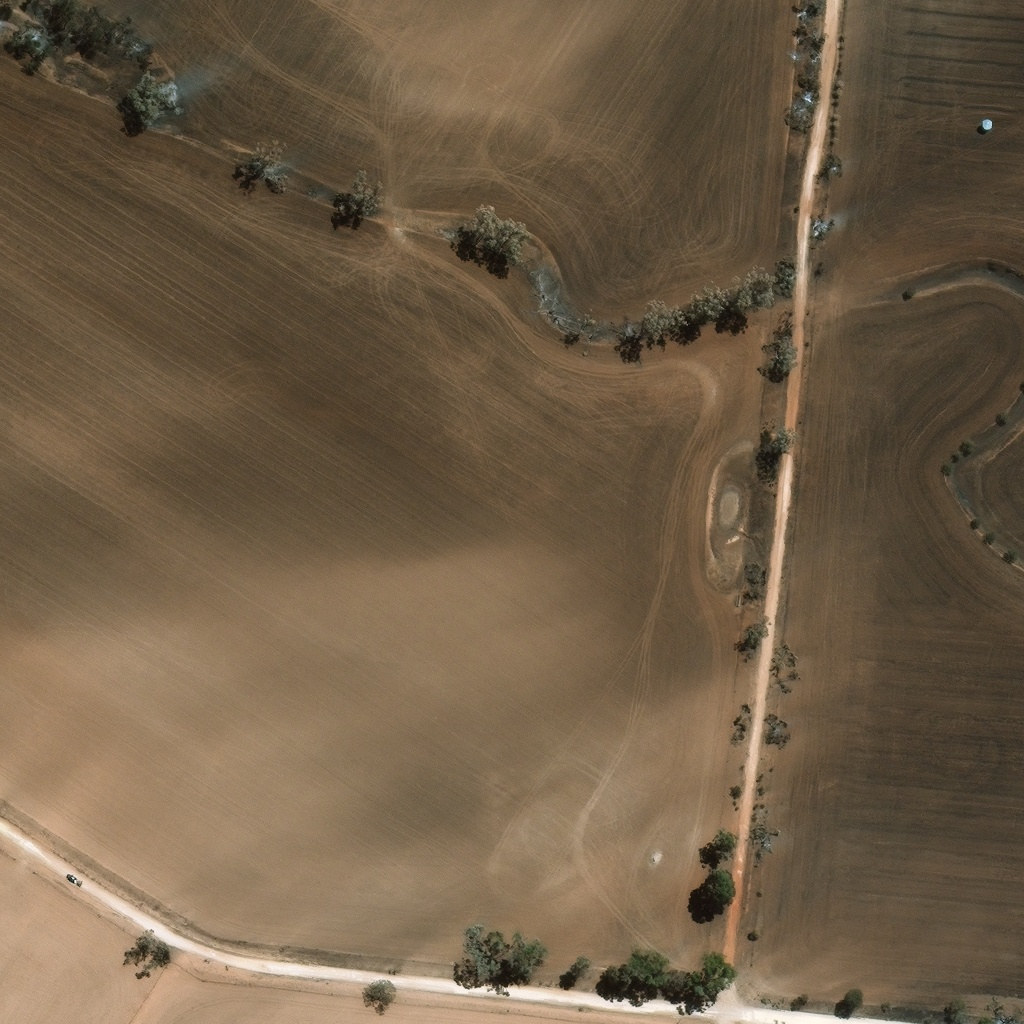4 un-classified: (426, 100, 437, 110), (300, 349, 310, 360)
